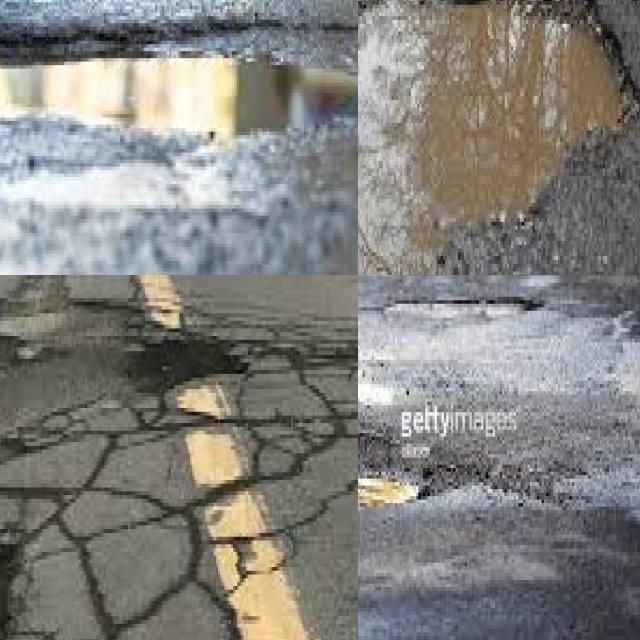Pothole: (358, 0, 626, 275), (0, 20, 358, 195), (358, 438, 474, 510), (386, 297, 539, 314)
